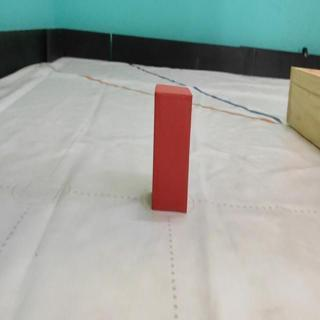redbox: (151, 83, 193, 212)
